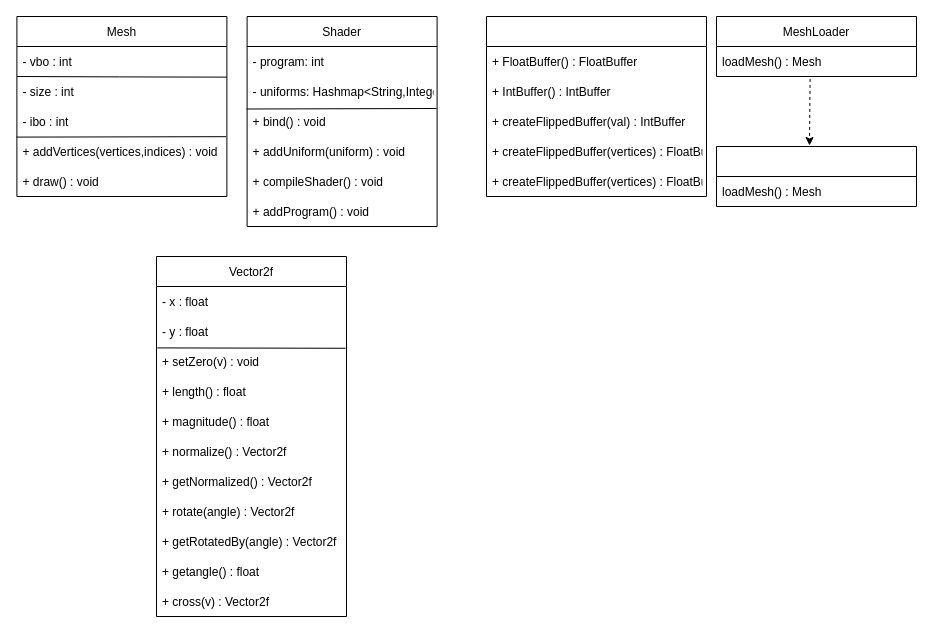
The diagram is 933 pixels wide and 633 high, and some of its shapes have lost their labels. Each missing label, with the box of its shape:
OBJMeshLoader: (716, 146, 916, 206)
Util: (486, 16, 706, 196)
